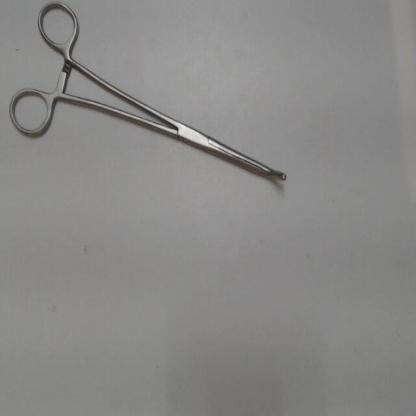Lahey Forceps: (4, 0, 294, 191)
